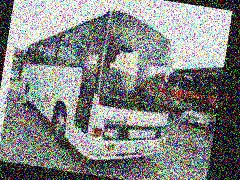bus: (9, 0, 188, 171)
